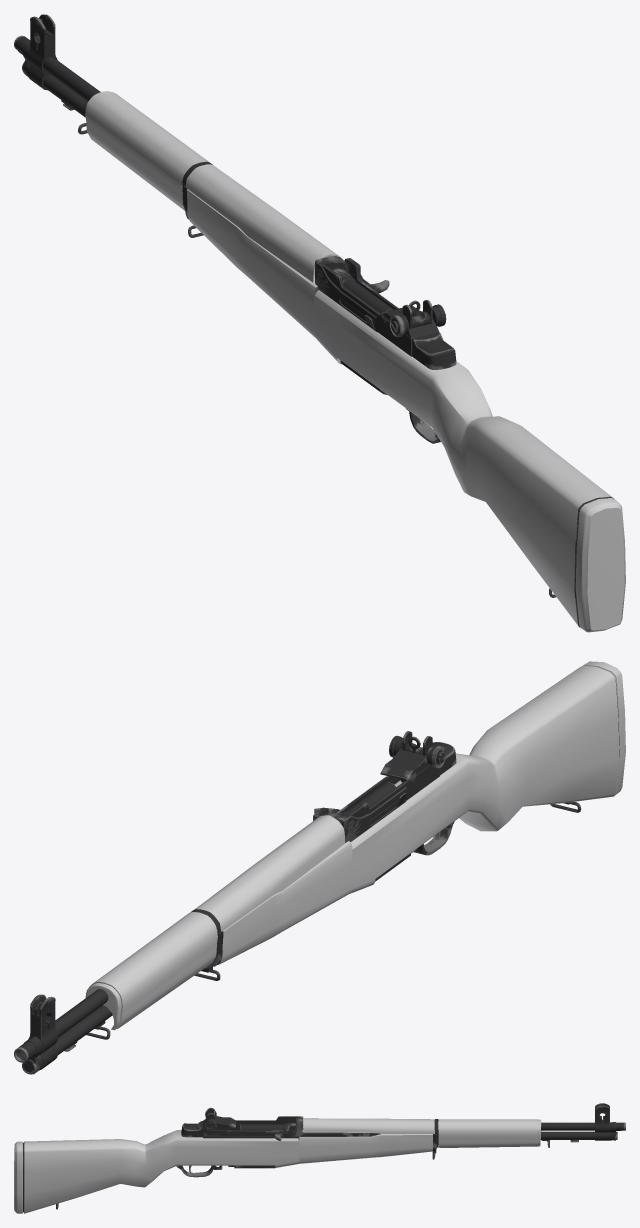
3 views of the same model, one above another, from view 1: azimuth 30°, elevation 25°; view 2: azimuth 150°, elevation 25°; view 3: azimuth 270°, elevation 25° (orthographic). The views are drawn at different scales.
Visible parts, largest first — view 1: M1; view 2: M1; view 3: M1.
Boxes of the visible parts, box(x1,y1,x2,y2) form: M1: box(14, 14, 625, 632); M1: box(14, 661, 625, 1074); M1: box(14, 1103, 625, 1213).
Bounding box in the file's own units: 28.77 × 90.31 × 471.
